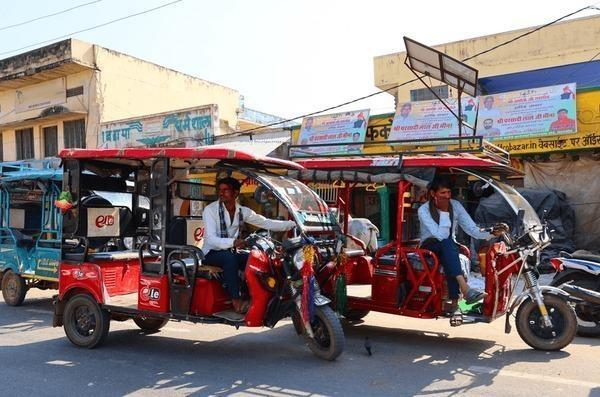keke: (62, 140, 348, 366)
